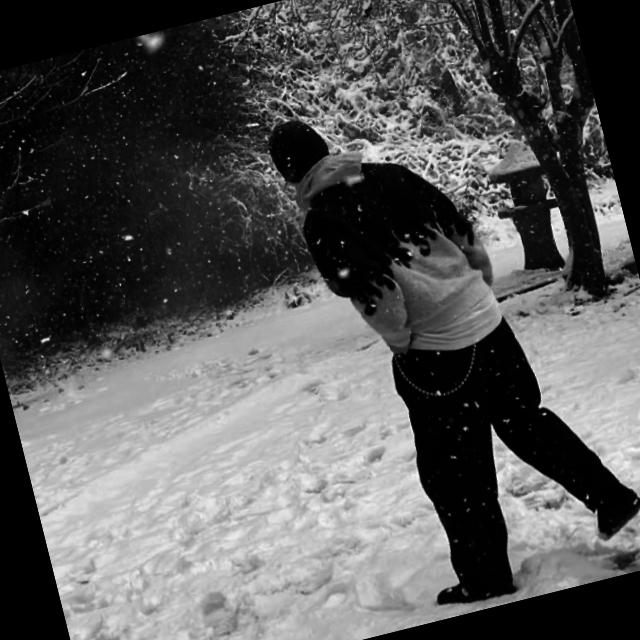cardigan: (292, 136, 505, 362)
cottonpants: (388, 300, 640, 602)
